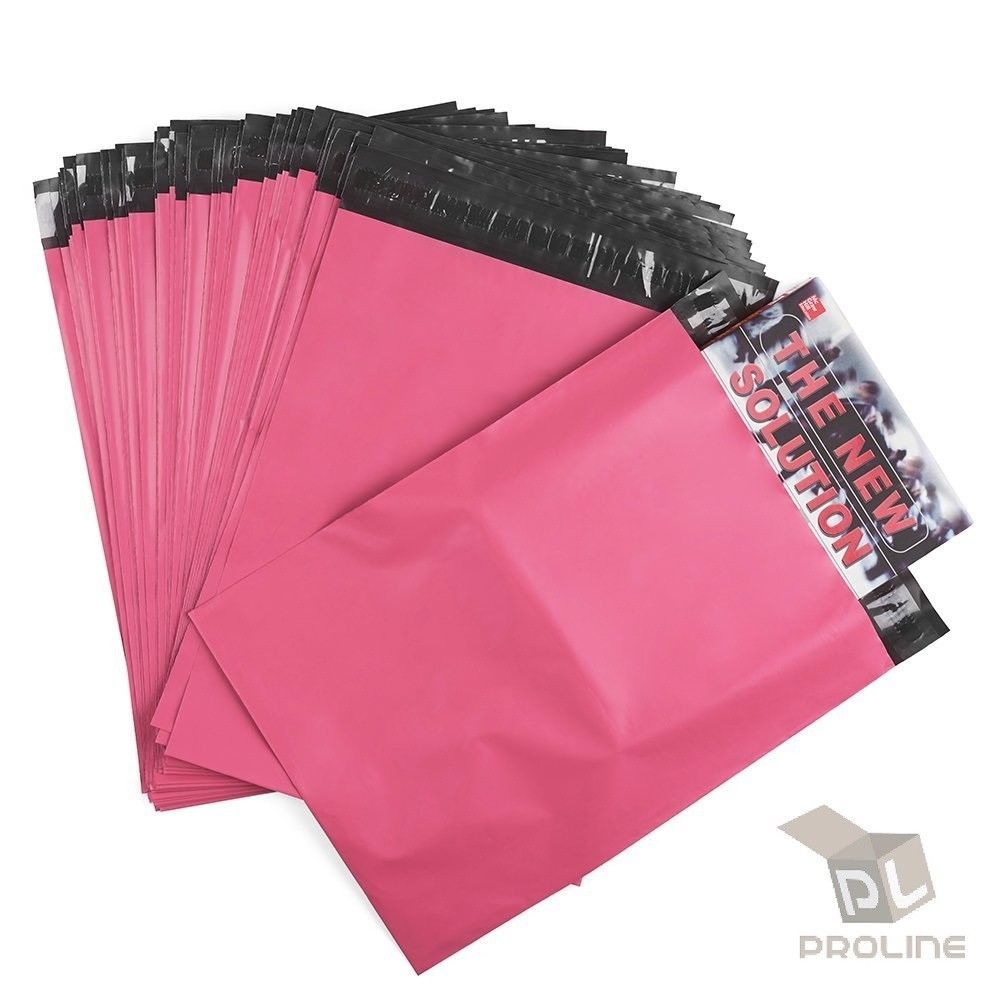Parcel: (34, 103, 968, 972)
